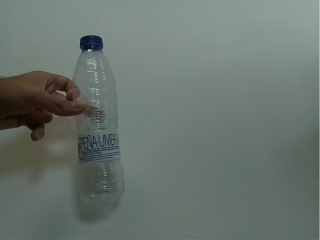botella plastico: (70, 34, 127, 203)
